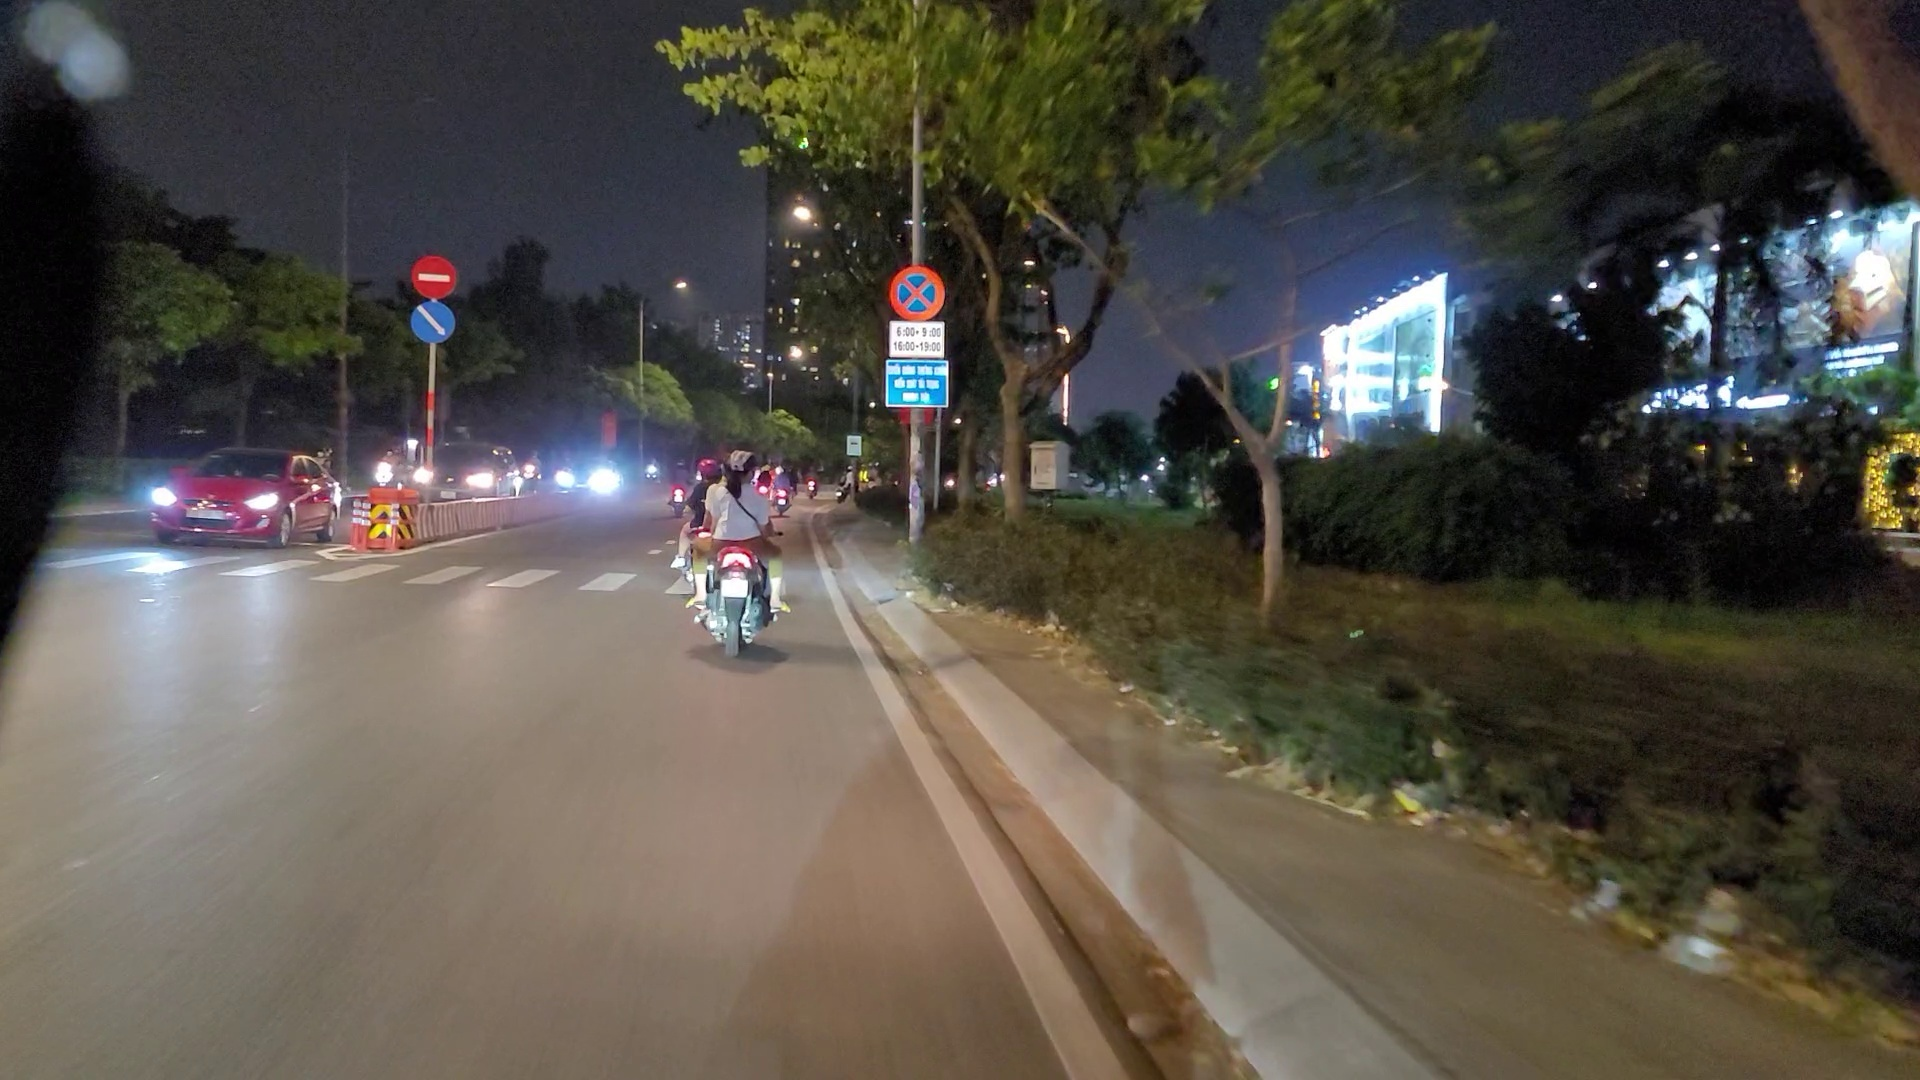Bien khac: (886, 262, 945, 316)
Cam di nguoc chieu: (404, 251, 462, 302)
Huong di phai re phai: (411, 305, 454, 343)
